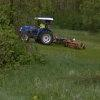Tractor: (16, 17, 62, 52)
